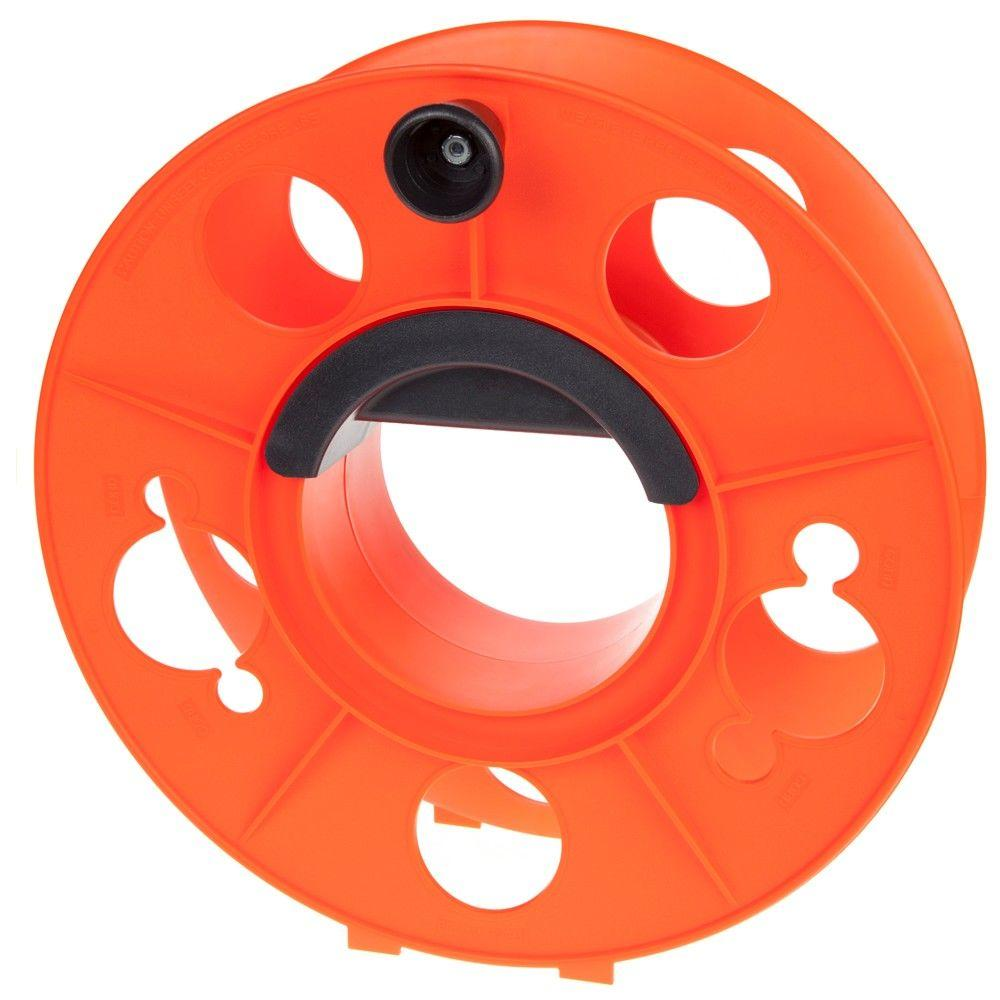Nonrec_Tangler: (25, 18, 962, 961)
